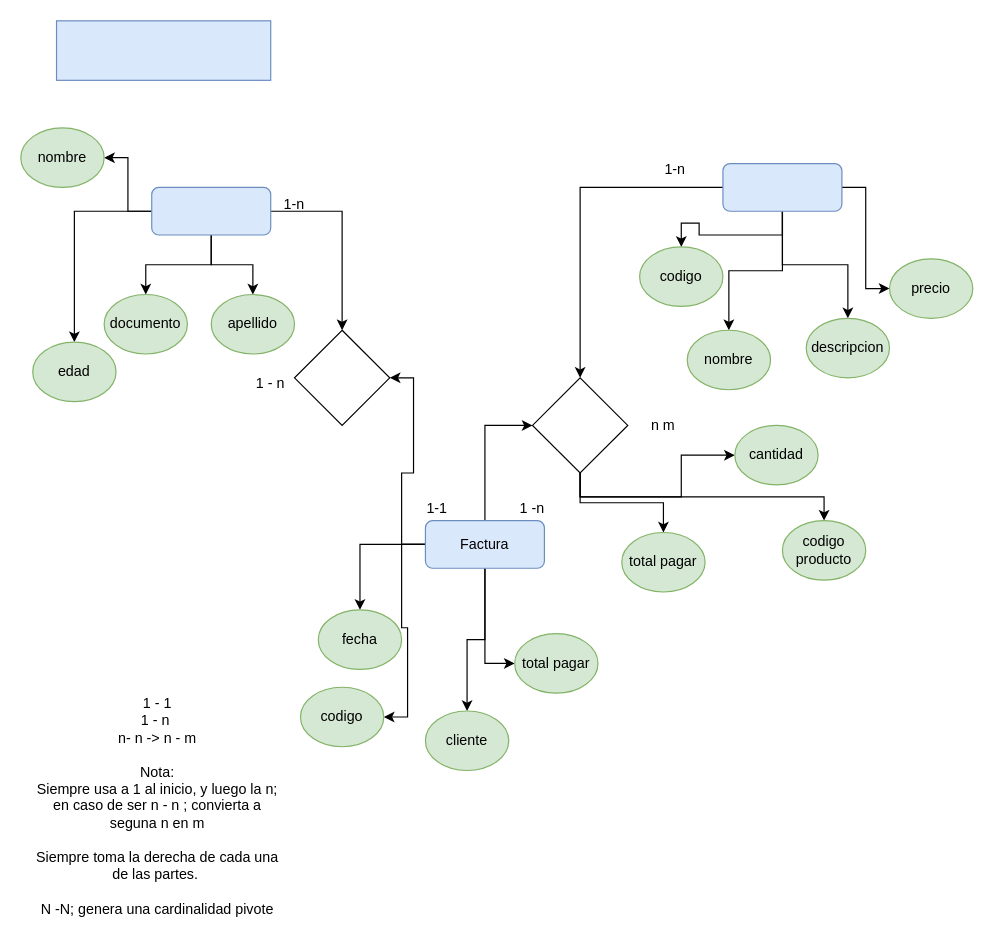
This 994x938 diagram has some shape labels left out. The centre of each missing label's shape, as x and y in pixels:
MER (Modelo Entidad Relación): the point at 163,50
Persona: the point at 211,210
Producto: the point at 782,186
Realiza: the point at 341,377
Tiene: the point at 579,425
